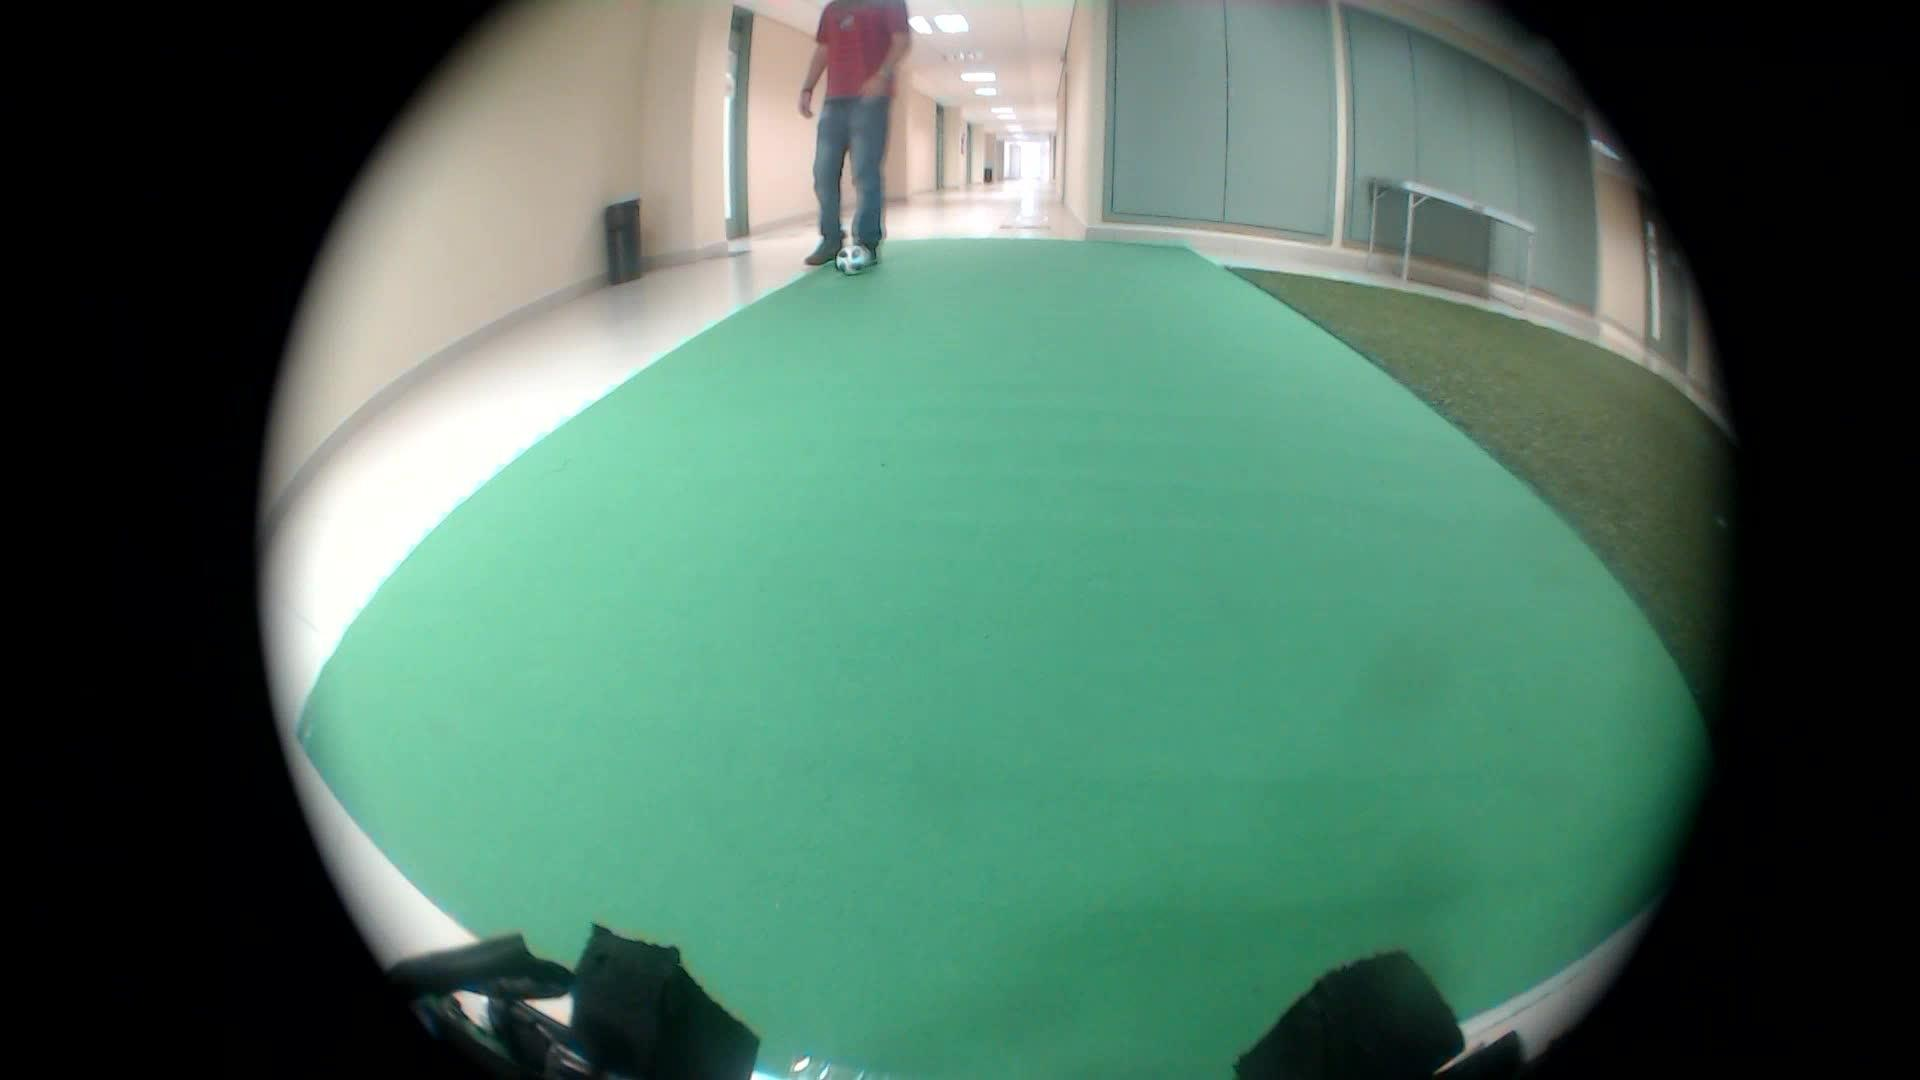ball: (829, 243, 870, 287)
